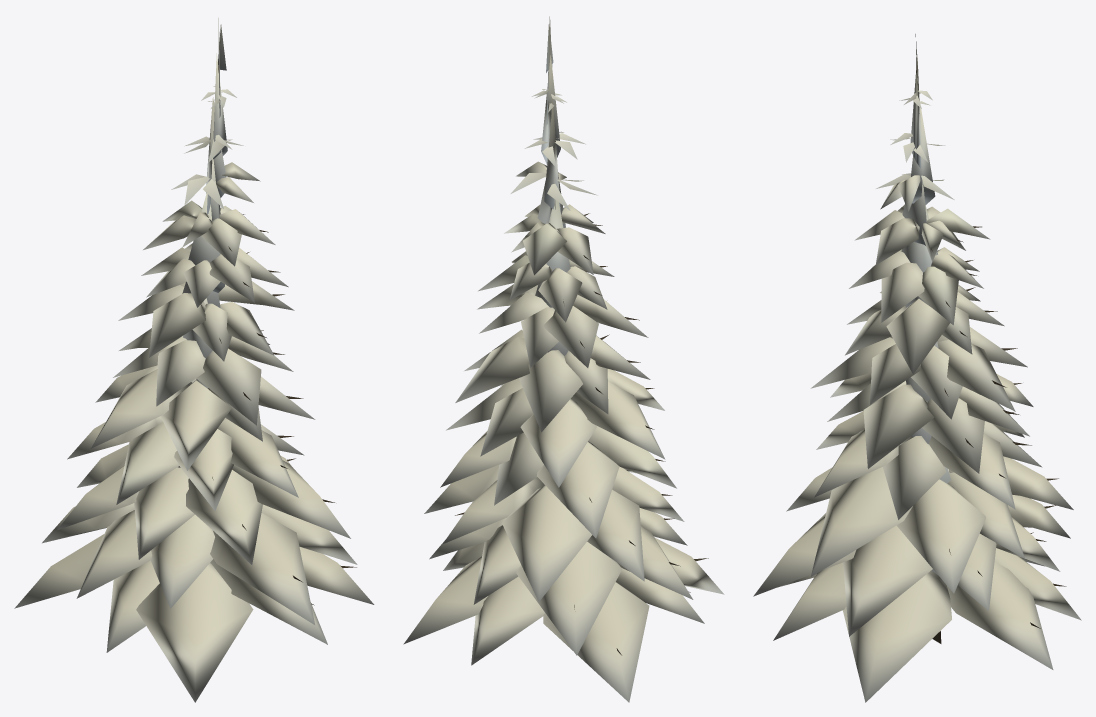
3 renders of one model, left to right at view 1: azimuth 30°, elevation 25°; view 2: azimuth 150°, elevation 25°; view 3: azimuth 270°, elevation 25°, orthographic. The views are drawn at different scales.
Parts seen in each view (by area): view 1: crown; view 2: crown; view 3: crown, trunk.
Part boxes in pixels (left/top/right/bottom): crown: left=14, top=18, right=374, bottom=702; crown: left=403, top=16, right=724, bottom=702; crown: left=753, top=54, right=1081, bottom=702; trunk: left=915, top=34, right=1066, bottom=643.
Bounding box in the file's own units: 6.83 × 14.75 × 6.89.
